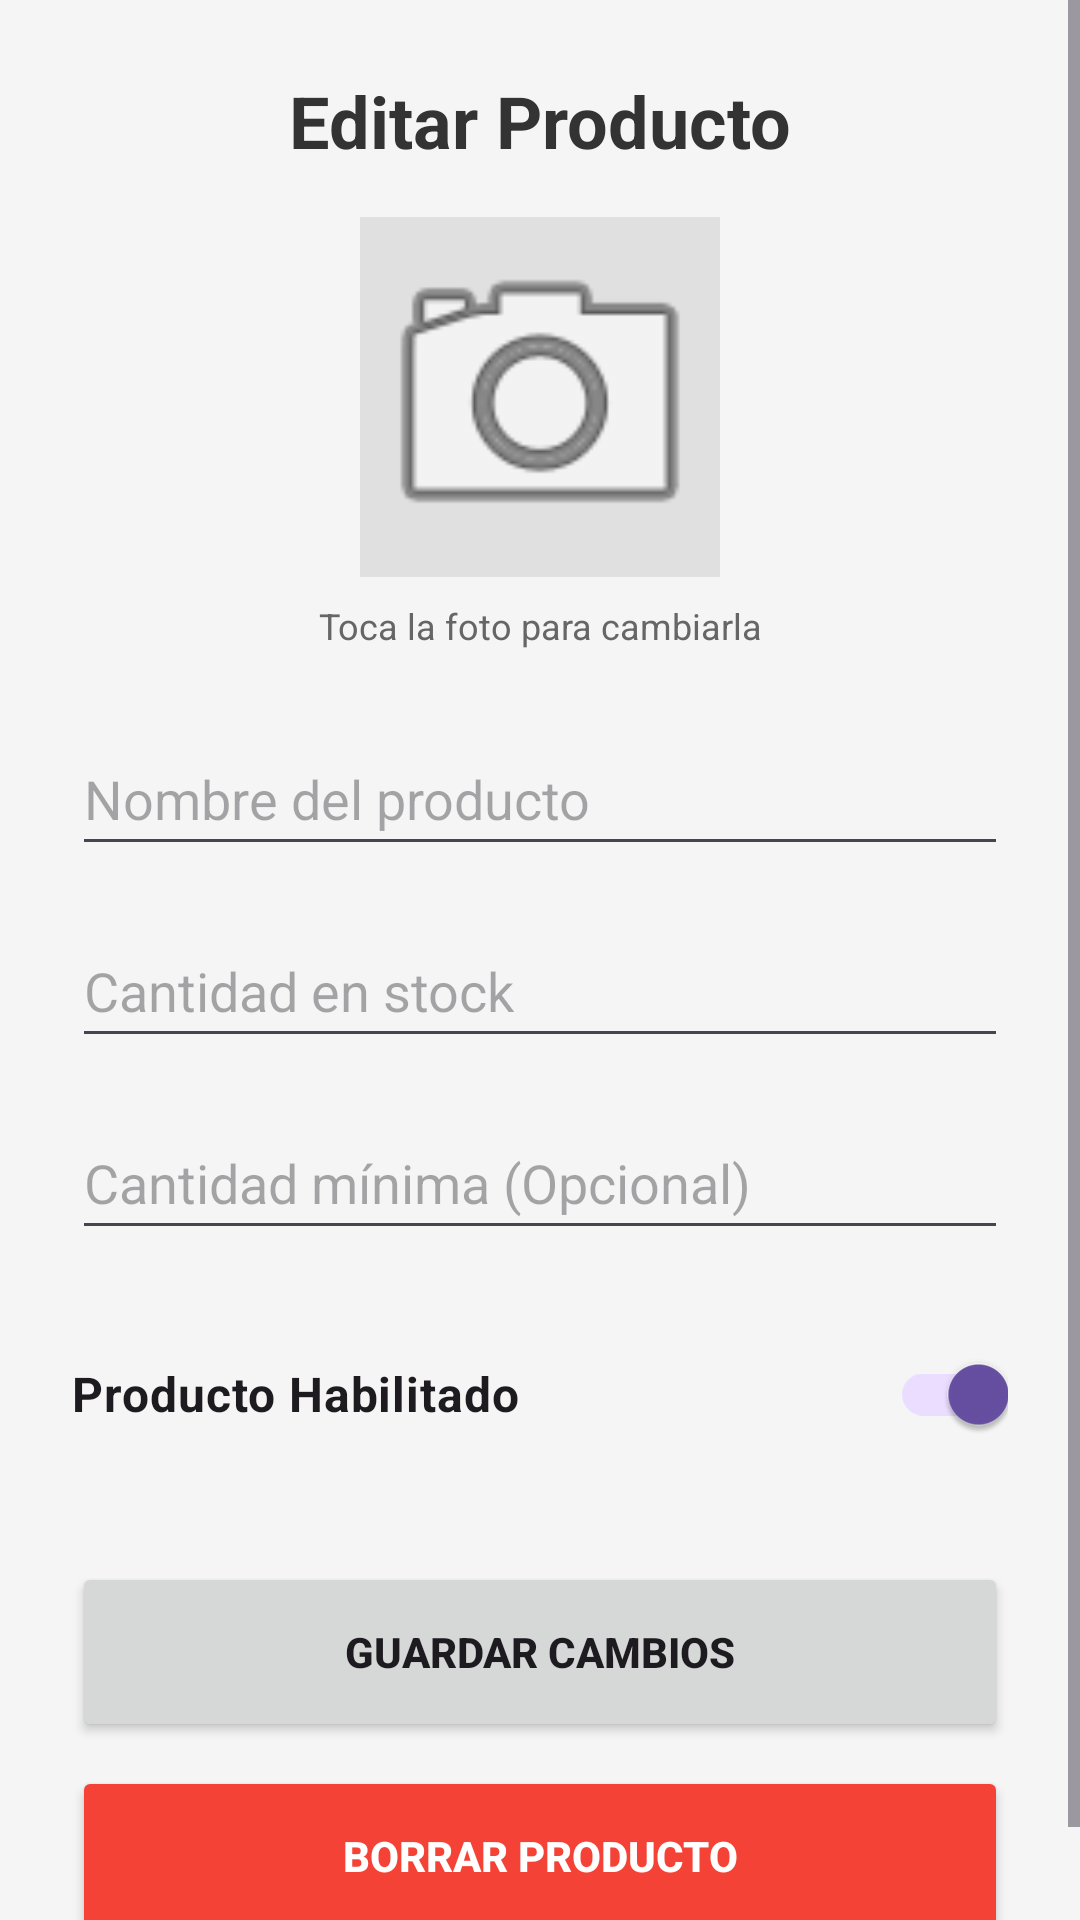

Icons on this 1080px×1920px Android screen, each with its box as (x1, y1, x2, y2):
Foto del producto a editar: (360, 217, 720, 577)
